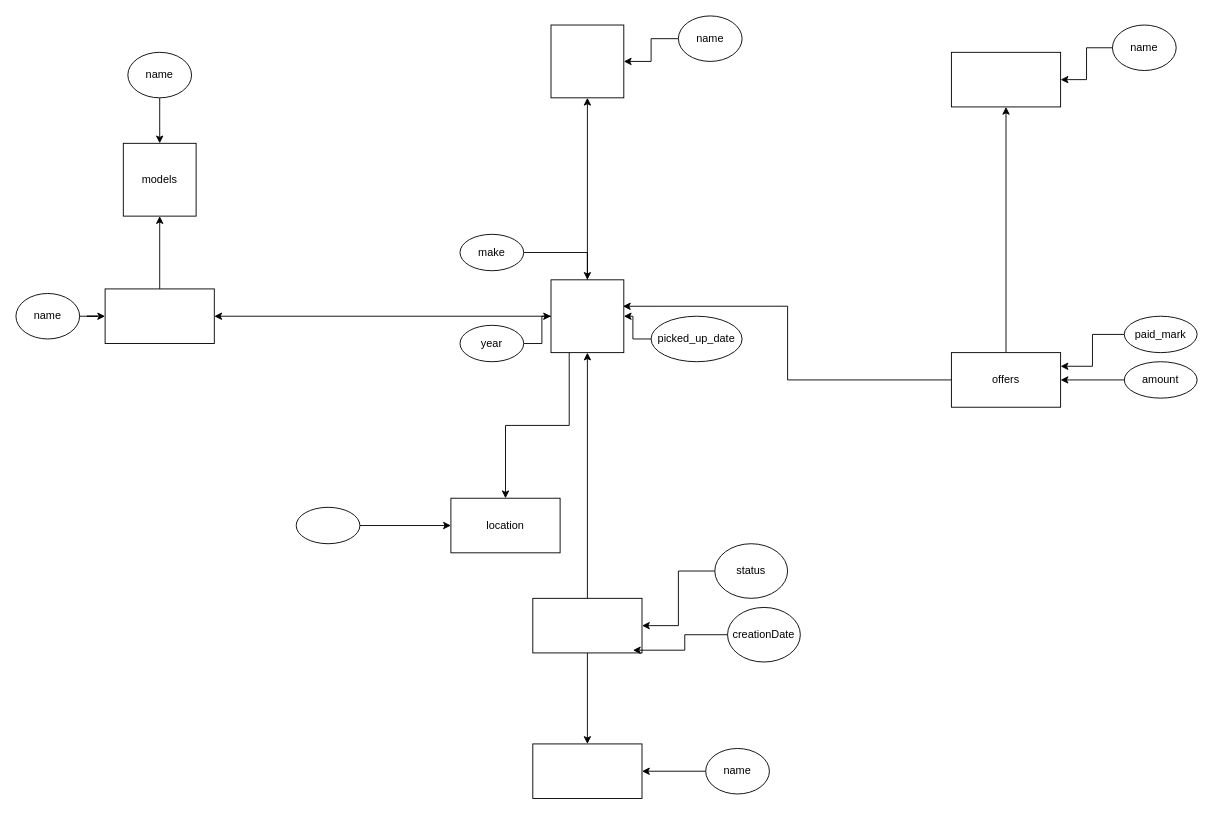
Image size: 1213x814. Some labels were removed from this diagram. The centre of each missing label's shape, as x and y in pixels:
Admin: pixel 587 771
buyer: pixel 1005 79
Car: pixel 587 316
car_history: pixel 587 625
customer: pixel 587 61
submodel: pixel 159 316
zipcode: pixel 327 525
